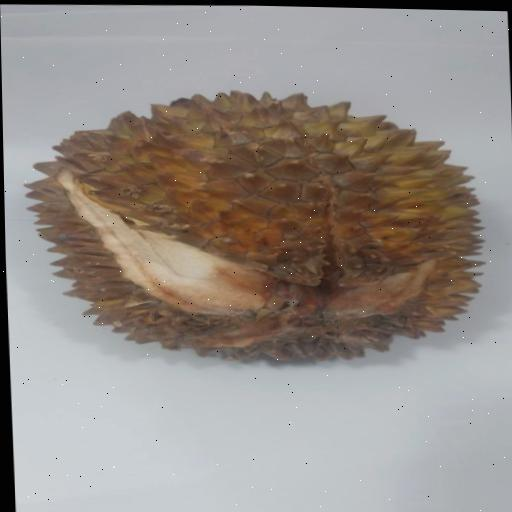rot: (2, 71, 512, 394)
